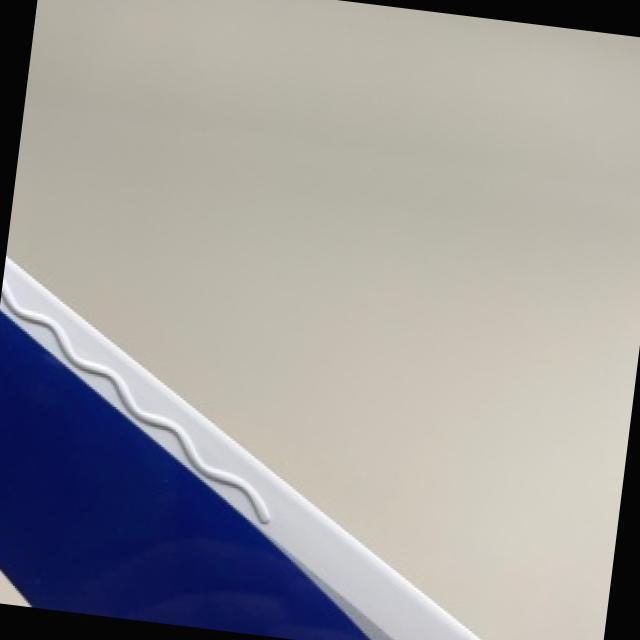healthy: (6, 0, 640, 640), (0, 256, 479, 640)
